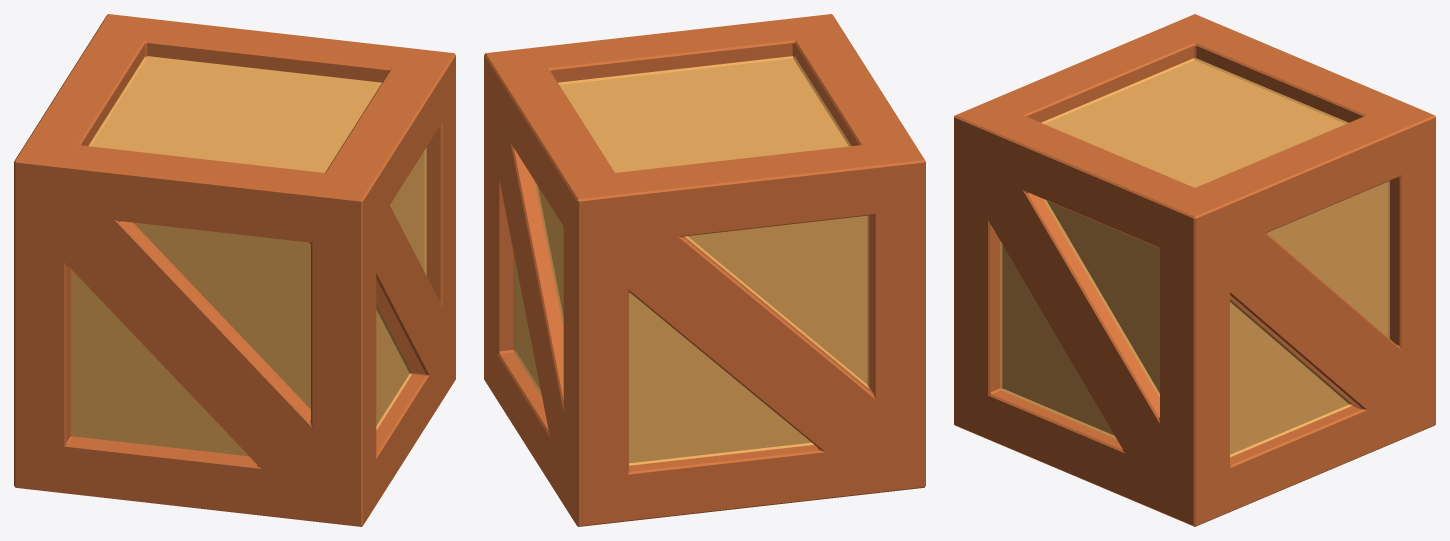
The model's file is Wood box.fbx.
3 renders of one model, left to right at view 1: azimuth 30°, elevation 25°; view 2: azimuth 150°, elevation 25°; view 3: azimuth 270°, elevation 25°, orthographic. The views are drawn at different scales.
Parts seen in each view (by area): view 1: Wood Box; view 2: Wood Box; view 3: Wood Box.
Boxes of the visible parts, x1,y1,x2,y2 form: Wood Box: [14, 14, 455, 526]; Wood Box: [484, 14, 925, 526]; Wood Box: [954, 14, 1435, 526].
Bounding box in the file's own units: 281 × 200 × 281.
